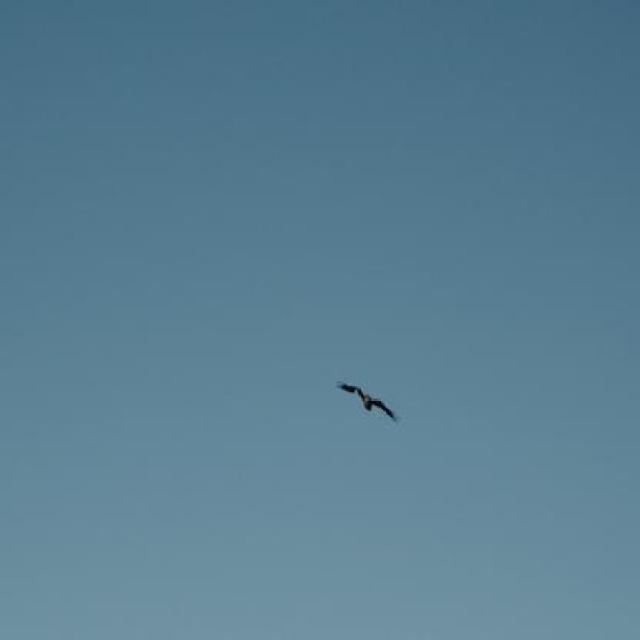bird: (334, 367, 397, 431)
